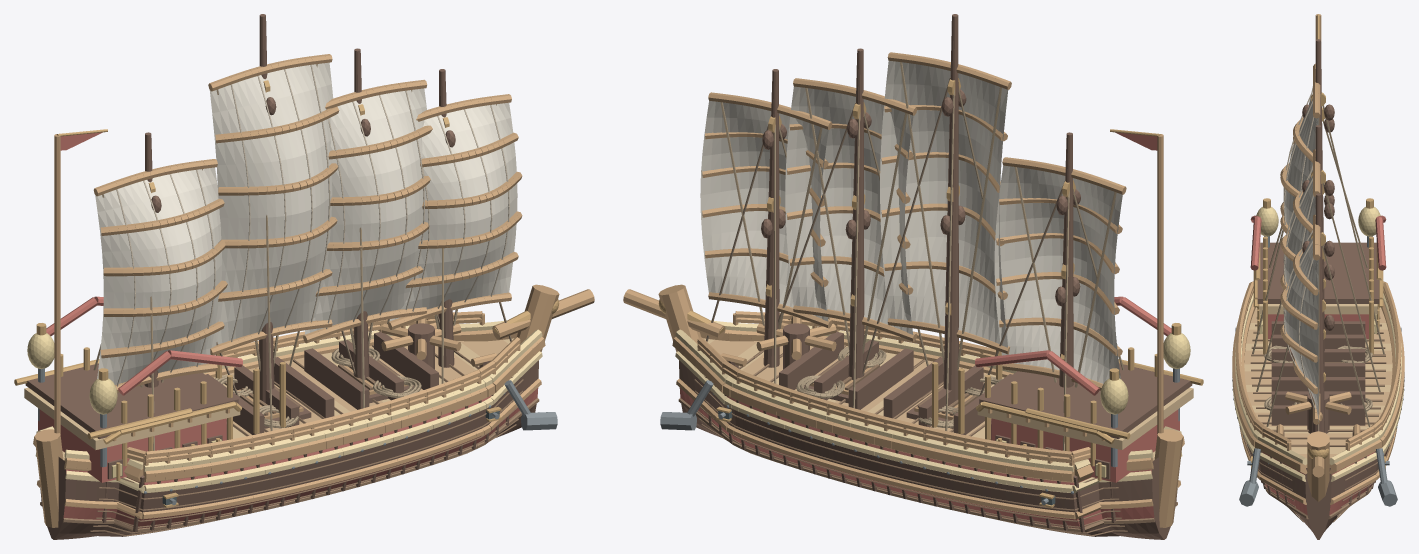
File: treasure_ship-v5.glb
3 views of the same model, side by side, from view 1: azimuth 30°, elevation 25°; view 2: azimuth 150°, elevation 25°; view 3: azimuth 270°, elevation 25° (orthographic). The views are drawn at different scales.
Parts seen in each view (by area): view 1: treasure_ship_sails_ivory, treasure_ship_rigging_wood, treasure_ship_hull_wood, treasure_ship_hull_darkwood, treasure_ship_hull_pale, treasure_ship_ornament_darkwood, treasure_ship_railings_wood, treasure_ship_deck_darkwood, treasure_ship_rigging_sailshade, treasure_ship_hull_seam, treasure_ship_masts_darkwood, treasure_ship_hull_red (+14 smaller); view 2: treasure_ship_sails_ivory, treasure_ship_rigging_wood, treasure_ship_hull_wood, treasure_ship_masts_darkwood, treasure_ship_hull_darkwood, treasure_ship_hull_pale, treasure_ship_ornament_darkwood, treasure_ship_railings_wood, treasure_ship_deck_darkwood, treasure_ship_hull_seam, treasure_ship_rigging_rope, treasure_ship_hull_red (+16 smaller); view 3: treasure_ship_ornament_darkwood, treasure_ship_sails_ivory, treasure_ship_hull_wood, treasure_ship_rigging_wood, treasure_ship_deck_darkwood, treasure_ship_masts_darkwood, treasure_ship_hull_deck, treasure_ship_railings_wood, treasure_ship_hull_darkwood, treasure_ship_hull_pale, treasure_ship_masts_rope, treasure_ship_hull_seam (+15 smaller).
Part boxes in pixels (x1,y1,x2,y2): treasure_ship_sails_ivory: (95, 62, 517, 384); treasure_ship_rigging_wood: (93, 54, 522, 392); treasure_ship_hull_wood: (33, 284, 594, 527); treasure_ship_hull_darkwood: (40, 360, 538, 539); treasure_ship_hull_pale: (35, 320, 542, 493); treasure_ship_ornament_darkwood: (205, 331, 438, 439); treasure_ship_railings_wood: (127, 311, 520, 475); treasure_ship_deck_darkwood: (25, 363, 238, 479); treasure_ship_rigging_sailshade: (116, 65, 509, 386); treasure_ship_hull_seam: (40, 344, 539, 536); treasure_ship_masts_darkwood: (144, 14, 455, 402); treasure_ship_hull_red: (63, 388, 538, 528); treasure_ship_sails_ivory: (700, 60, 1122, 383); treasure_ship_rigging_wood: (701, 52, 1126, 390); treasure_ship_hull_wood: (623, 284, 1184, 527); treasure_ship_masts_darkwood: (761, 14, 1080, 402); treasure_ship_hull_darkwood: (679, 360, 1177, 539); treasure_ship_hull_pale: (675, 320, 1182, 493); treasure_ship_ornament_darkwood: (779, 331, 1012, 439); treasure_ship_railings_wood: (697, 311, 1090, 475); treasure_ship_deck_darkwood: (979, 363, 1192, 479); treasure_ship_hull_seam: (678, 344, 1177, 536); treasure_ship_rigging_rope: (720, 62, 1116, 387); treasure_ship_hull_red: (679, 388, 1154, 528); treasure_ship_ornament_darkwood: (1271, 321, 1365, 425); treasure_ship_sails_ivory: (1284, 98, 1318, 421); treasure_ship_hull_wood: (1232, 301, 1404, 504); treasure_ship_rigging_wood: (1280, 63, 1320, 424); treasure_ship_deck_darkwood: (1257, 242, 1379, 303); treasure_ship_masts_darkwood: (1302, 39, 1334, 432); treasure_ship_hull_deck: (1244, 309, 1392, 458); treasure_ship_railings_wood: (1235, 281, 1401, 450); treasure_ship_hull_darkwood: (1247, 444, 1389, 539); treasure_ship_hull_pale: (1232, 293, 1404, 481); treasure_ship_masts_rope: (1252, 105, 1384, 426); treasure_ship_hull_seam: (1242, 317, 1394, 522).
Size of the model in its own units: 57.95 by 48.03 by 18.84.
